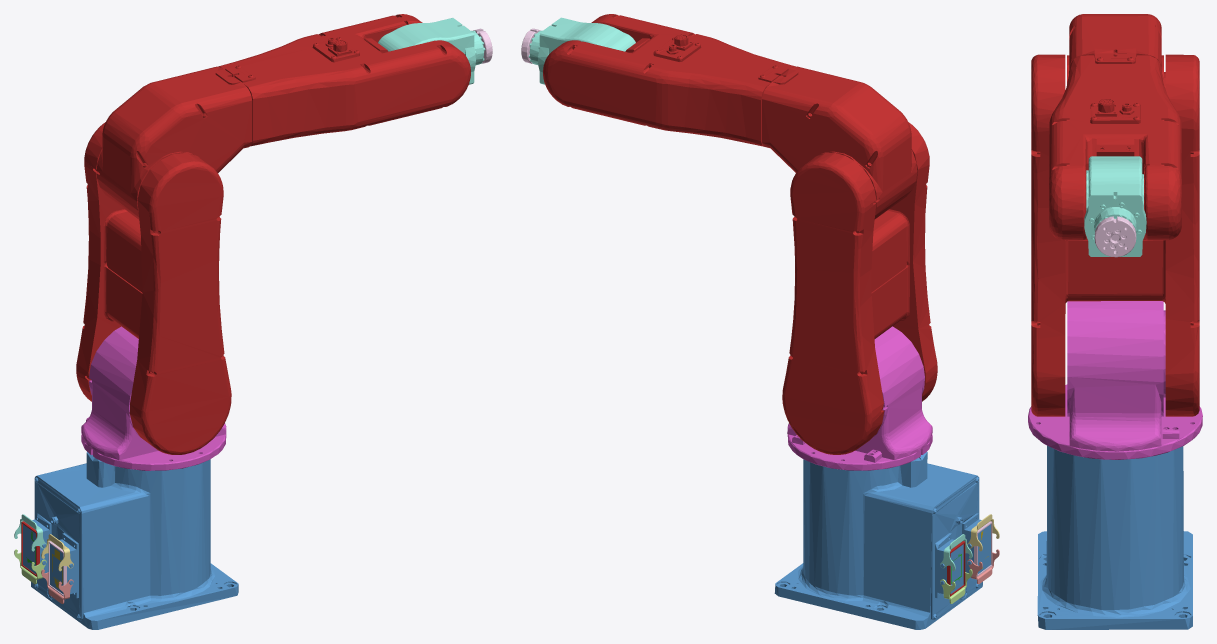
3 renders of one model, left to right at view 1: azimuth 30°, elevation 25°; view 2: azimuth 150°, elevation 25°; view 3: azimuth 270°, elevation 25°, orthographic. The views are drawn at different scales.
Parts seen in each view (by area): view 1: J3_1, J1_1, J5_1, J4_1, J2_1, J6_1; view 2: J3_1, J1_1, J5_1, J4_1, J2_1, J6_1; view 3: J3_1, J1_1, J5_1, J2_1, J6_1, J4_1, J6_2.
Part boxes in pixels (x1=…): J3_1: x1=76, y1=122, x2=231, y2=454; J1_1: x1=23, y1=452, x2=238, y2=629; J5_1: x1=218, y1=14, x2=470, y2=146; J4_1: x1=96, y1=66, x2=252, y2=219; J2_1: x1=81, y1=326, x2=226, y2=470; J6_1: x1=378, y1=18, x2=485, y2=84; J3_1: x1=782, y1=122, x2=937, y2=454; J1_1: x1=774, y1=452, x2=990, y2=629; J5_1: x1=543, y1=14, x2=795, y2=146; J4_1: x1=762, y1=66, x2=917, y2=219; J2_1: x1=787, y1=326, x2=932, y2=470; J6_1: x1=528, y1=17, x2=635, y2=84; J3_1: x1=1031, y1=54, x2=1199, y2=416; J1_1: x1=1037, y1=445, x2=1192, y2=629; J5_1: x1=1049, y1=53, x2=1181, y2=240; J2_1: x1=1028, y1=301, x2=1202, y2=459; J6_1: x1=1084, y1=156, x2=1146, y2=256; J4_1: x1=1067, y1=14, x2=1165, y2=88; J6_2: x1=1094, y1=216, x2=1136, y2=257.
Size of the model in its own units: 32.3 by 34.49 by 9.07.
